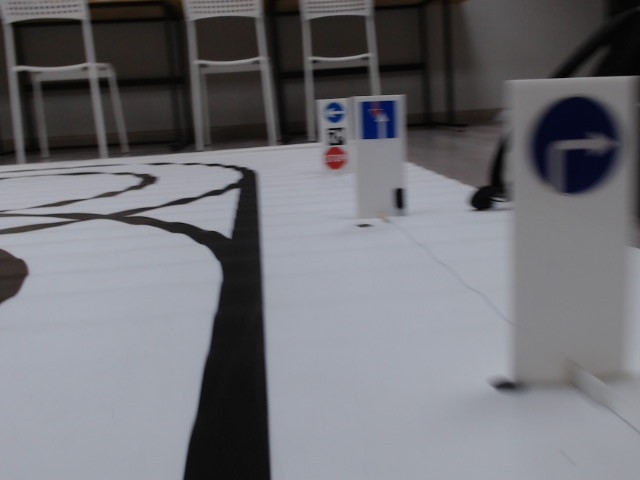Right: (525, 94, 625, 197)
Stop: (323, 146, 348, 169)
priority_movement: (357, 98, 399, 141)
